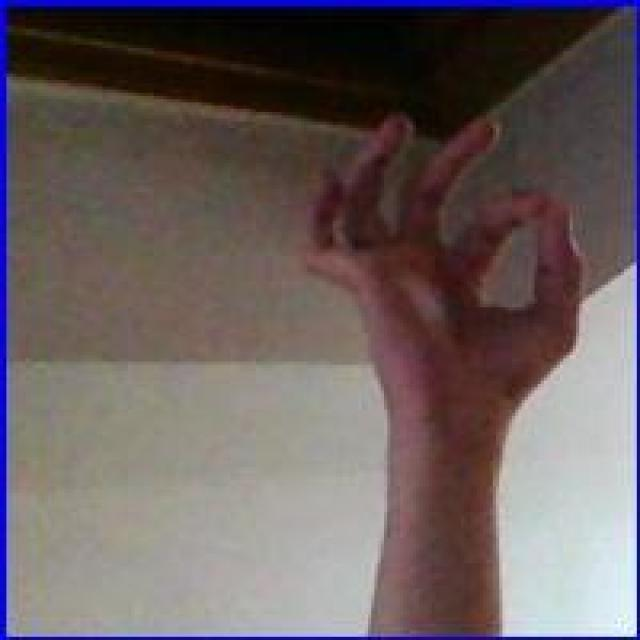F: (294, 109, 592, 413)
